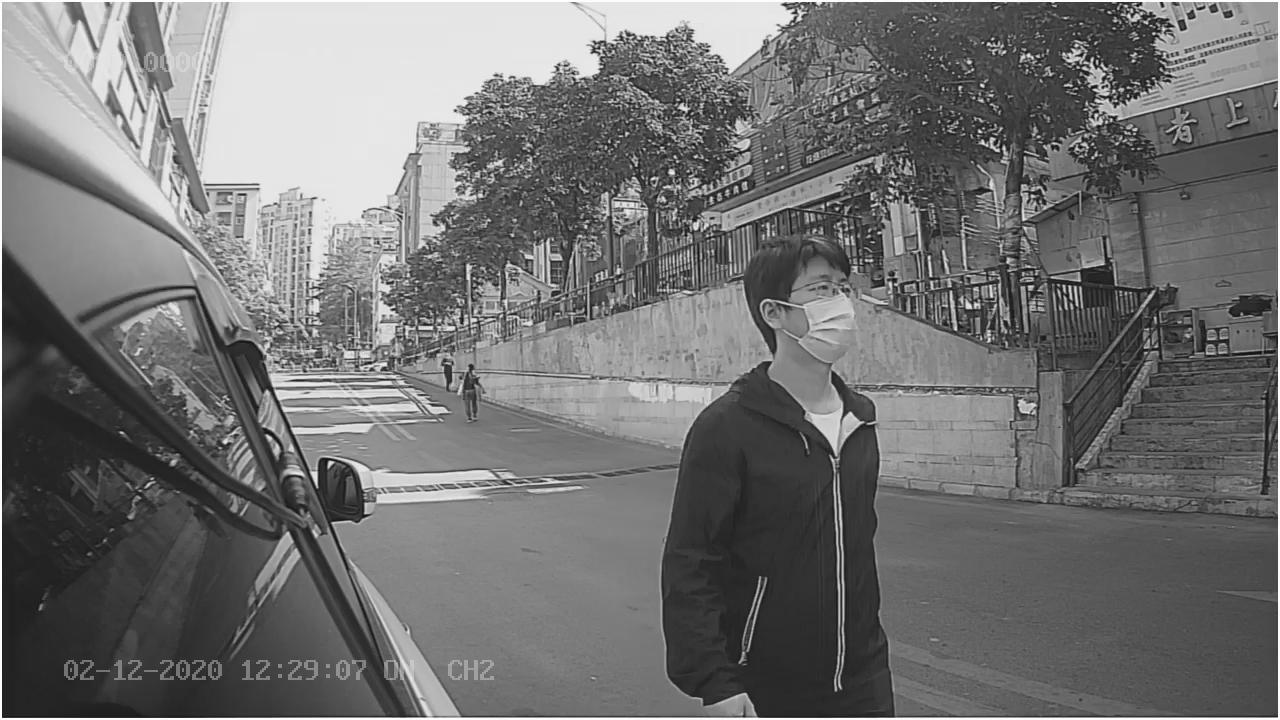person: (649, 206, 911, 552)
